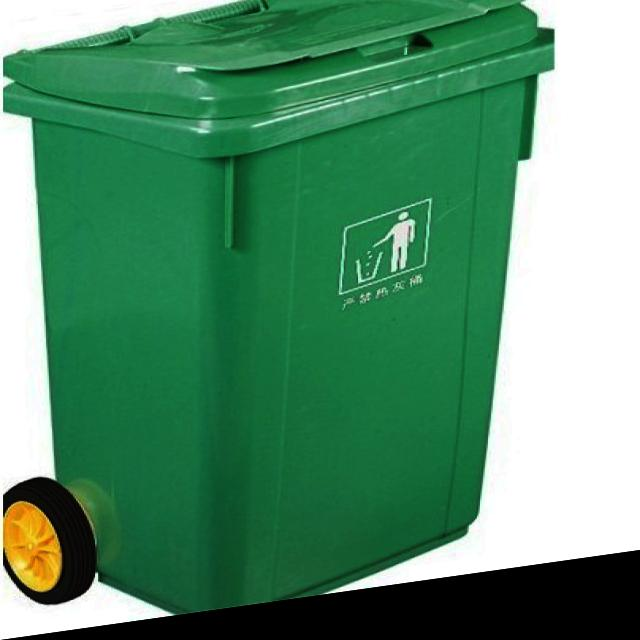garbage_bin: (3, 0, 553, 639)
